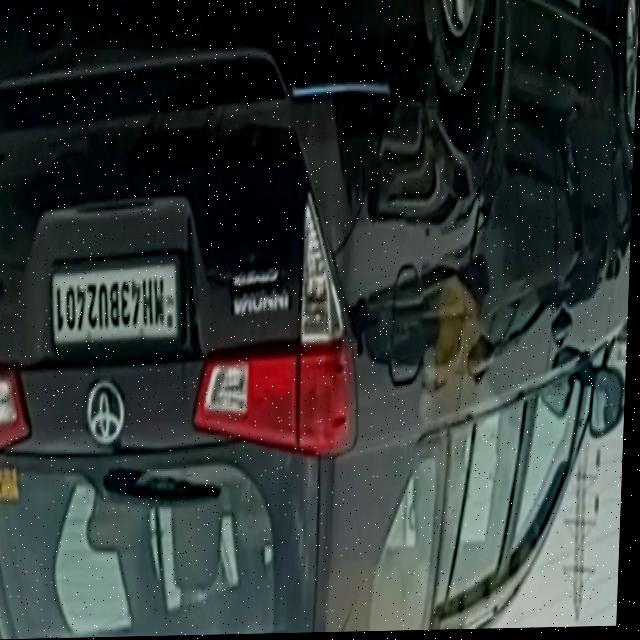plate: (49, 256, 189, 356)
